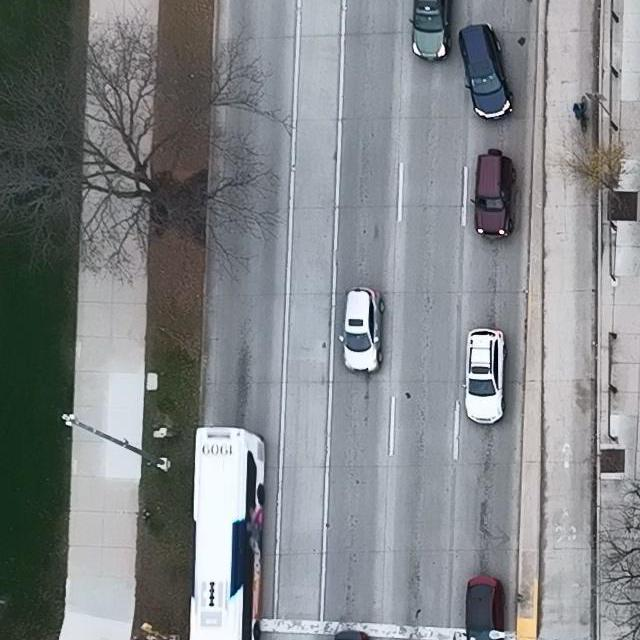car: (189, 426, 266, 640), (458, 24, 514, 120), (470, 148, 518, 239), (462, 326, 506, 425), (337, 285, 385, 373), (463, 574, 505, 640), (409, 0, 454, 61)
